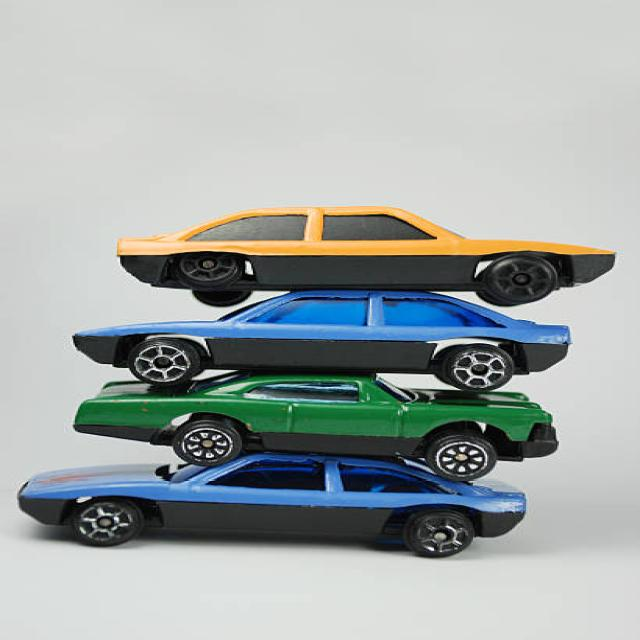Car: (72, 369, 559, 481), (16, 451, 526, 557), (72, 289, 571, 392), (116, 205, 615, 306)
